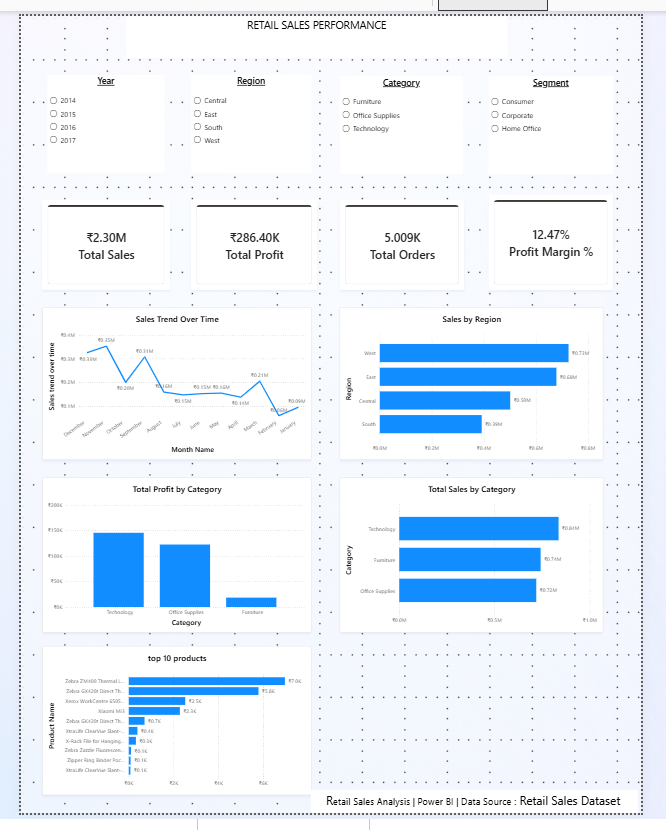

Layout of this report page (visuals, bound fields, positions):
{"tool":"powerbi","page":{"name":"Executive Overview","canvas":[1400,1800],"ordinal":0},"visuals":[{"type":"textbox","box":[238.3,0,861.2,94.6],"z":0},{"type":"cardVisual","fields":{"Data":["Sample - Superstore.Total Sales"]},"box":[46.7,415,288.3,203.3],"z":1000},{"type":"cardVisual","fields":{"Data":["Sample - Superstore.Total Profit"]},"box":[383.3,415,285,203.3],"z":2000},{"type":"cardVisual","fields":{"Data":["Sample - Superstore.Profit Margin %"]},"box":[1055,403.3,281.7,215],"z":3000},{"type":"cardVisual","fields":{"Data":["Sample - Superstore.Total Orders"]},"box":[720,415,281.7,203.3],"z":4000},{"type":"lineChart","title":"Sales Trend Over Time","fields":{"Category":["DateTable.Month Name"],"Y":["Sample - Superstore.Total Sales"]},"box":[46.7,656.7,608.3,345],"z":5000},{"type":"barChart","title":"Sales by Region","fields":{"Category":["Sample - Superstore.Region"],"Y":["Sample - Superstore.Total Sales"]},"box":[720,656.7,595,345],"z":6000},{"type":"columnChart","fields":{"Category":["Sample - Superstore.Category"],"Y":["Sample - Superstore.Total Profit"]},"box":[46.7,1041.7,608.3,350],"z":7000},{"type":"barChart","fields":{"Category":["Sample - Superstore.Category"],"Y":["Sample - Superstore.Total Sales"]},"box":[720,1041.7,595,350],"z":8000},{"type":"barChart","title":"top 10 products ","fields":{"Category":["Sample - Superstore.Product Name"],"Y":["Sample - Superstore.Total Sales"]},"box":[46.7,1423.3,608.3,336.7],"z":9000},{"type":"listSlicer","fields":{"Values":["Sample - Superstore.Region"]},"box":[383.3,133.3,271.7,221.7],"z":10000},{"type":"listSlicer","fields":{"Values":["Sample - Superstore.Category"]},"box":[720,135,278.3,221.7],"z":11000},{"type":"listSlicer","fields":{"Values":["Sample - Superstore.Year"]},"box":[58.3,131.7,265,221.7],"z":12000},{"type":"listSlicer","fields":{"Values":["Sample - Superstore.Segment"]},"box":[1056.7,135,281.7,221.7],"z":13000},{"type":"textbox","box":[655,1748.3,738.3,51.7],"z":14000}]}

Visuals, with their boxes on the page's 1400x1800 design canvas (x1, y1, x2, y2). These are canvas units, not pixel positions in the 666x830 screenshot, which may show the page scaled, cropped or inside an application window:
textbox: <bbox>238, 0, 1100, 95</bbox>
cardVisual - Sample - Superstore.Total Sales: <bbox>47, 415, 335, 618</bbox>
cardVisual - Sample - Superstore.Total Profit: <bbox>383, 415, 668, 618</bbox>
cardVisual - Sample - Superstore.Profit Margin %: <bbox>1055, 403, 1337, 618</bbox>
cardVisual - Sample - Superstore.Total Orders: <bbox>720, 415, 1002, 618</bbox>
"Sales Trend Over Time" lineChart: <bbox>47, 657, 655, 1002</bbox>
"Sales by Region" barChart: <bbox>720, 657, 1315, 1002</bbox>
columnChart - Sample - Superstore.Category x Sample - Superstore.Total Profit: <bbox>47, 1042, 655, 1392</bbox>
barChart - Sample - Superstore.Category x Sample - Superstore.Total Sales: <bbox>720, 1042, 1315, 1392</bbox>
"top 10 products " barChart: <bbox>47, 1423, 655, 1760</bbox>
listSlicer - Sample - Superstore.Region: <bbox>383, 133, 655, 355</bbox>
listSlicer - Sample - Superstore.Category: <bbox>720, 135, 998, 357</bbox>
listSlicer - Sample - Superstore.Year: <bbox>58, 132, 323, 353</bbox>
listSlicer - Sample - Superstore.Segment: <bbox>1057, 135, 1338, 357</bbox>
textbox: <bbox>655, 1748, 1393, 1800</bbox>
